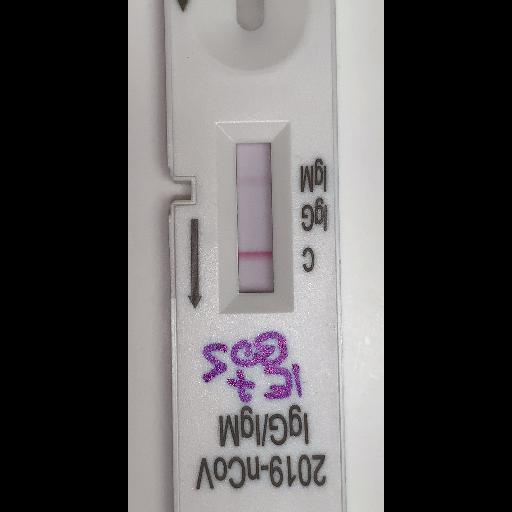Pos: (167, 0, 345, 511)
